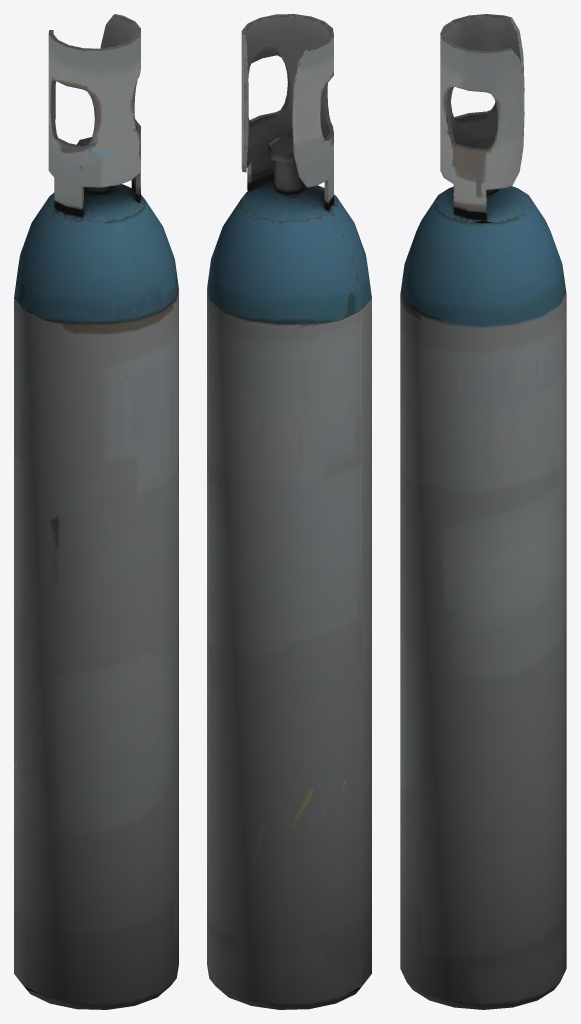
3 views of the same model, side by side, from view 1: azimuth 30°, elevation 25°; view 2: azimuth 150°, elevation 25°; view 3: azimuth 270°, elevation 25° (orthographic).
Parts seen in each view (by area): view 1: body0_model0_lod0_mesh0; view 2: body0_model0_lod0_mesh0; view 3: body0_model0_lod0_mesh0.
Boxes of the visible parts, <box> form: body0_model0_lod0_mesh0: <box>14,14,178,1009</box>; body0_model0_lod0_mesh0: <box>207,14,371,1009</box>; body0_model0_lod0_mesh0: <box>400,14,566,1009</box>.
Bounding box in the file's own units: 16 × 100 × 16.
Materials: 1 (1 with a texture image).
